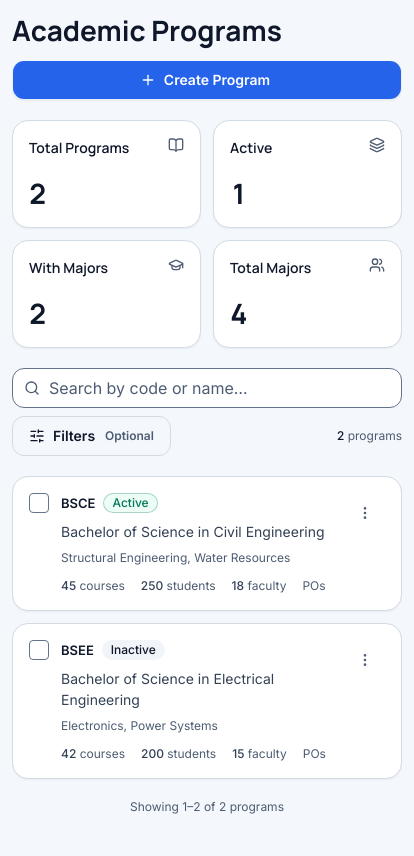
Test: SecretaryProgramsList › shows Delete program only after opening a row action menu
Expected: the text "Delete program" is not shown
Click the button named "Actions for": (365, 660) [345,640,385,680]
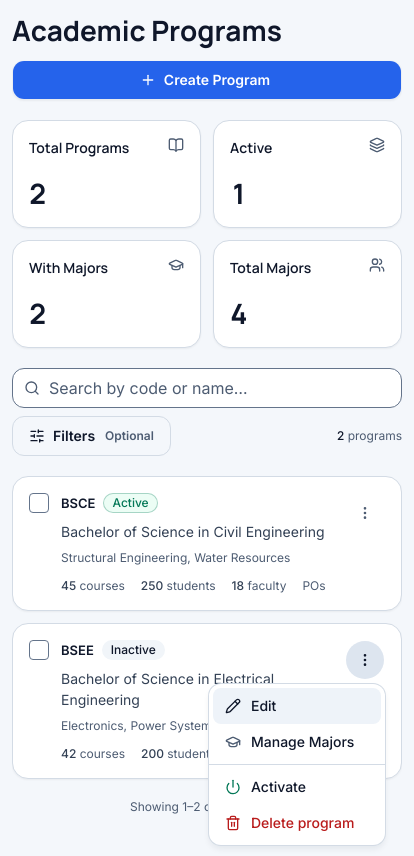
Now the text "Delete program" is shown, box [251,813,354,833]
